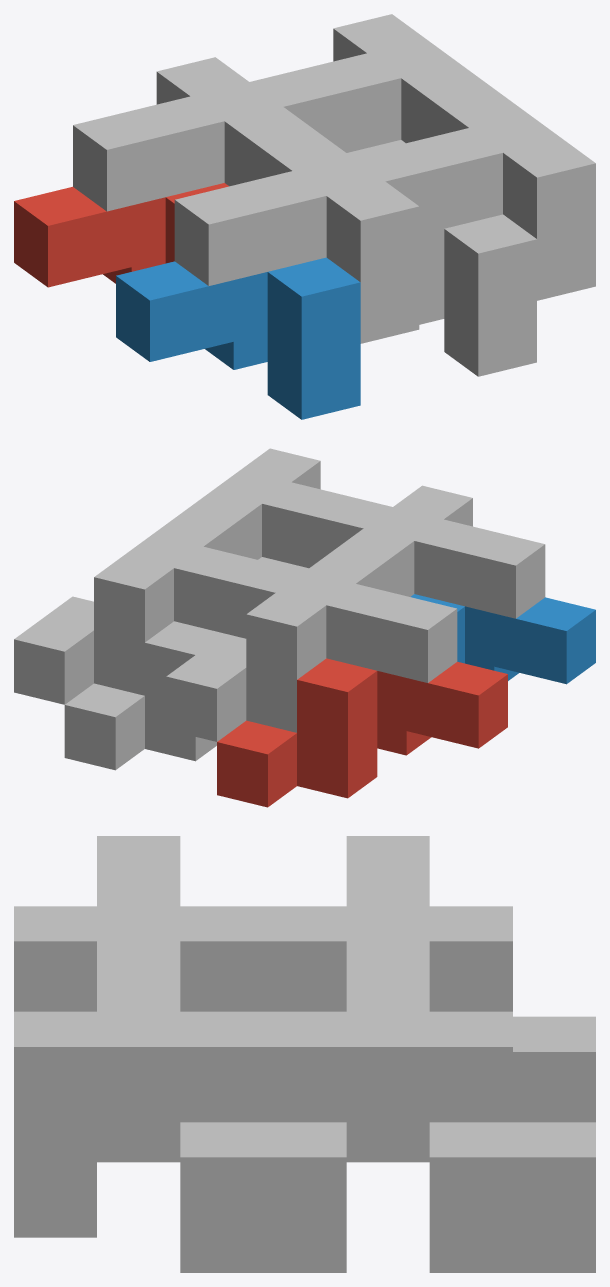
Rendered from tiling.obj.
The picture shows the model from 3 angles, top to bottom: view 1: azimuth 30°, elevation 25°; view 2: azimuth 150°, elevation 25°; view 3: azimuth 270°, elevation 25°; orthographic projection. The views are drawn at different scales.
Parts seen in each view (by area): view 1: copy_1_domain_4, copy_1_domain_2, copy_1_domain_8, copy_1_domain_3, copy_1_domain_7, copy_1_domain_6, copy_1_domain_1; view 2: copy_1_domain_3, copy_1_domain_7, copy_1_domain_1, copy_1_domain_4, copy_1_domain_8, copy_1_domain_5, copy_1_domain_2; view 3: copy_1_domain_8, copy_1_domain_7, copy_1_domain_3, copy_1_domain_4, copy_1_domain_6, copy_1_domain_5.
Boxes of the visible parts, x1,y1,x2,y2 form: copy_1_domain_4: (174, 132, 419, 343); copy_1_domain_2: (116, 257, 360, 419); copy_1_domain_8: (352, 88, 595, 300); copy_1_domain_3: (73, 57, 316, 211); copy_1_domain_7: (250, 14, 493, 152); copy_1_domain_6: (419, 214, 536, 376); copy_1_domain_1: (14, 183, 228, 287); copy_1_domain_3: (166, 550, 457, 741); copy_1_domain_7: (14, 513, 304, 704); copy_1_domain_1: (217, 658, 507, 807); copy_1_domain_4: (334, 485, 545, 618); copy_1_domain_8: (182, 448, 392, 568); copy_1_domain_5: (64, 621, 224, 770); copy_1_domain_2: (411, 594, 595, 684); copy_1_domain_8: (14, 941, 346, 1232); copy_1_domain_7: (263, 941, 595, 1232); copy_1_domain_3: (263, 836, 595, 1122); copy_1_domain_4: (14, 836, 263, 1011); copy_1_domain_6: (14, 1122, 346, 1272); copy_1_domain_5: (346, 1122, 595, 1272).
Size of the model in its own units: 8 by 3 by 7.
